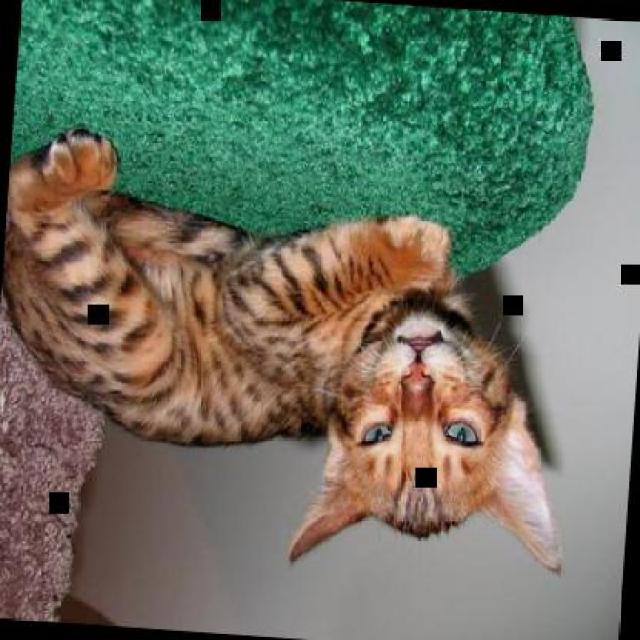cat: (0, 123, 589, 588)
